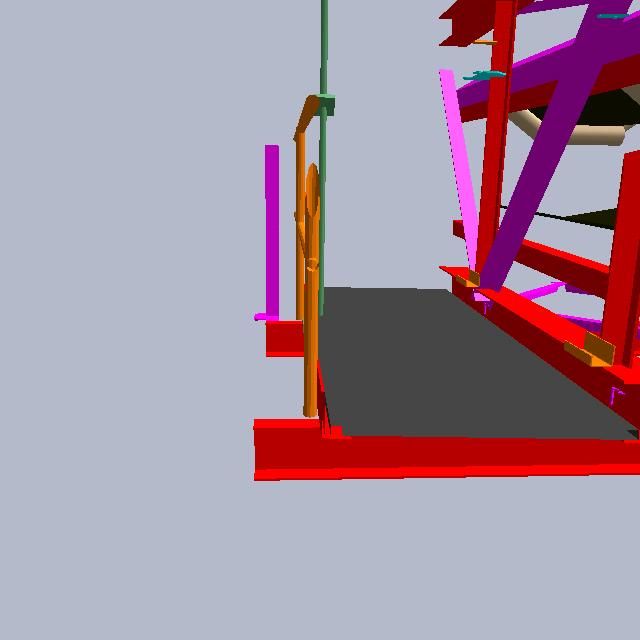Poste: (309, 1, 332, 324)
Soporte: (252, 136, 322, 362)
